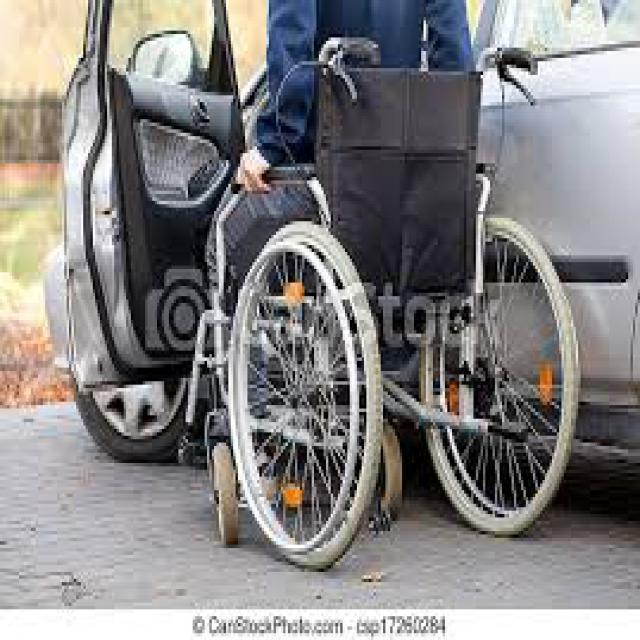wheelchairs: (202, 31, 578, 562)
